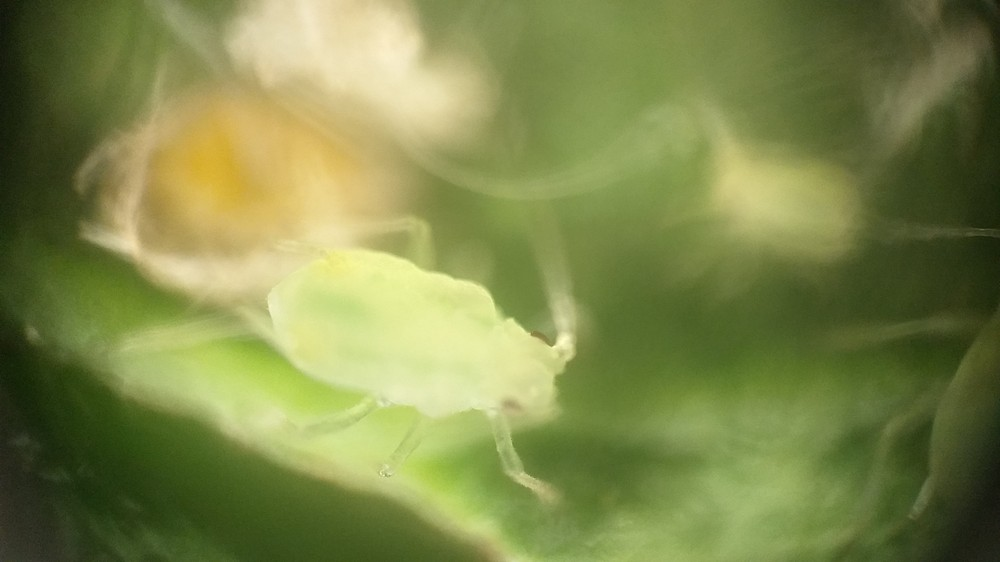Pulgon: (219, 173, 641, 543)
